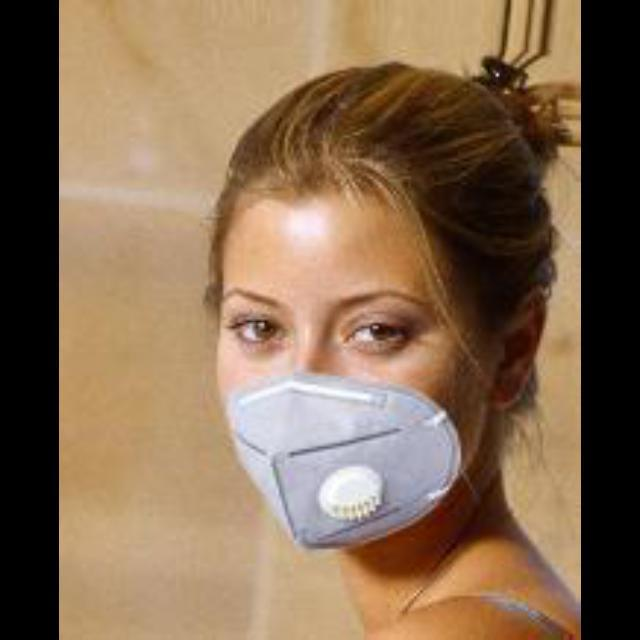suspicion: (225, 47, 512, 566)
